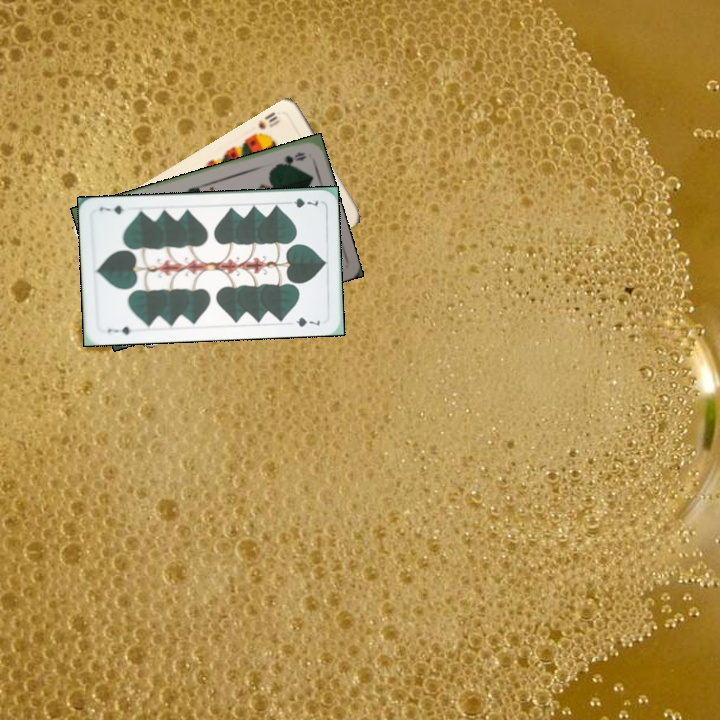G7: (281, 194, 321, 210), (103, 322, 134, 337)
GO: (271, 148, 309, 170)
S10: (254, 108, 283, 132)
